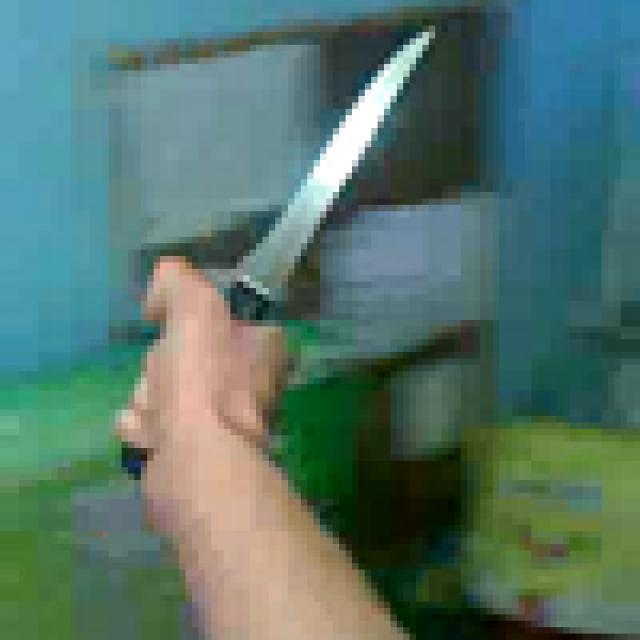knife: (135, 12, 468, 468)
